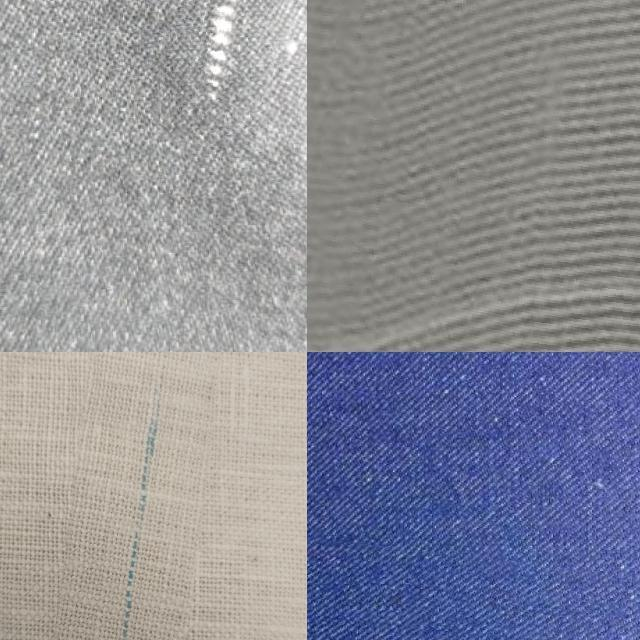Thread_other: (307, 0, 640, 352), (43, 352, 209, 640), (307, 529, 640, 640), (156, 0, 282, 148)
